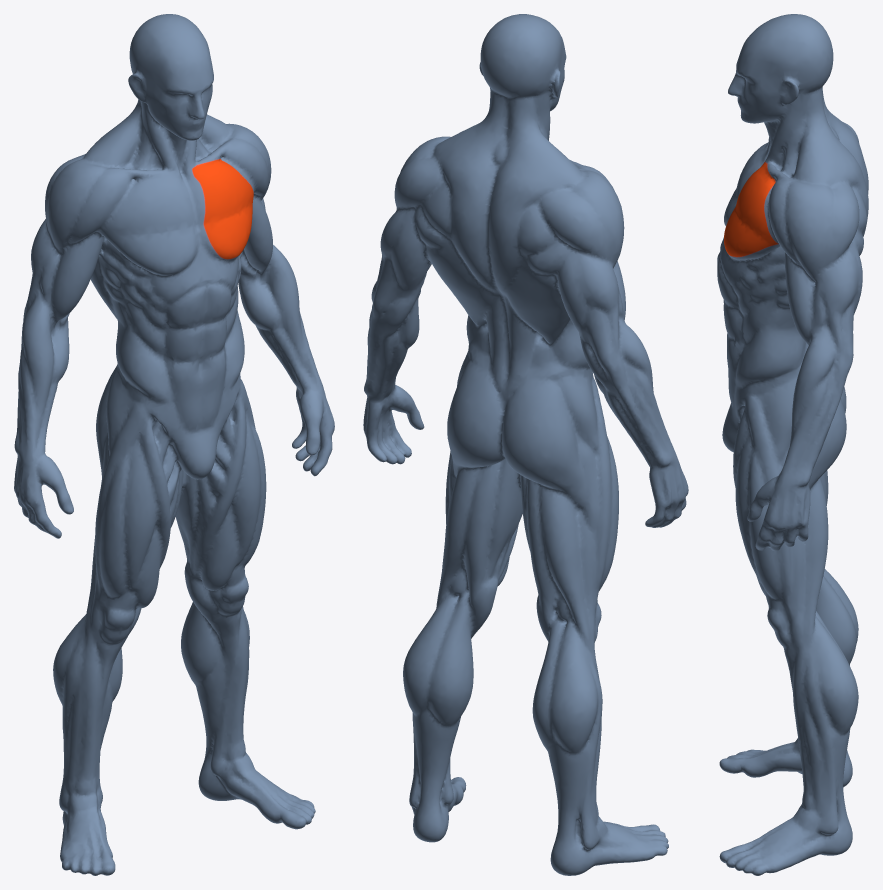
The model's file is meshy-painted-selection.glb.
3 renders of one model, left to right at view 1: azimuth 30°, elevation 25°; view 2: azimuth 150°, elevation 25°; view 3: azimuth 270°, elevation 25°, orthographic. The views are drawn at different scales.
Visible parts, largest first — view 1: mesh_node; view 2: mesh_node; view 3: mesh_node.
Part boxes in pixels (x1=…): mesh_node: x1=14, y1=14, x2=334, y2=875; mesh_node: x1=363, y1=14, x2=688, y2=875; mesh_node: x1=717, y1=14, x2=868, y2=875.
Size of the model in its own units: 0.7588 by 1.9 by 0.3255.
1 material, 1 textured.
